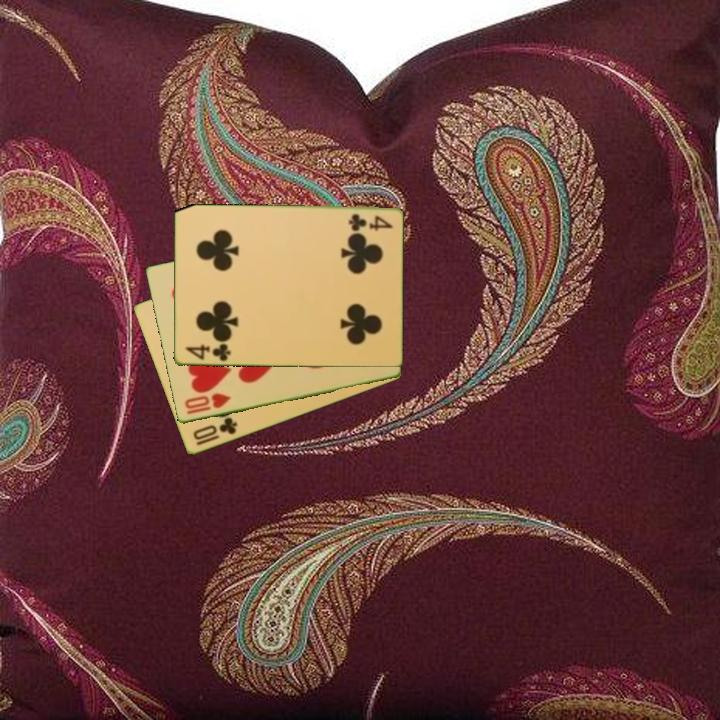10c: (189, 414, 240, 449)
10h: (181, 390, 233, 418)
4c: (182, 341, 233, 364), (345, 211, 396, 232)
